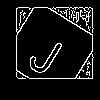J: (25, 25, 71, 79)
